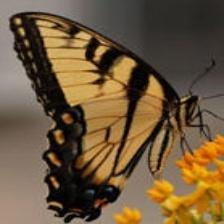butterfly: (10, 13, 198, 223)
